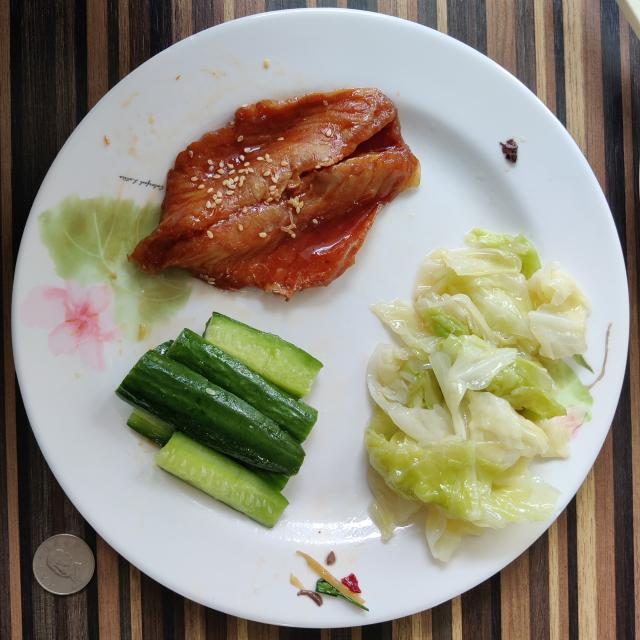Kabayaki sea bream fillet: (130, 89, 420, 299)
cabbage: (365, 229, 592, 561)
coin: (32, 534, 95, 595)
cucumber: (116, 312, 322, 528)
